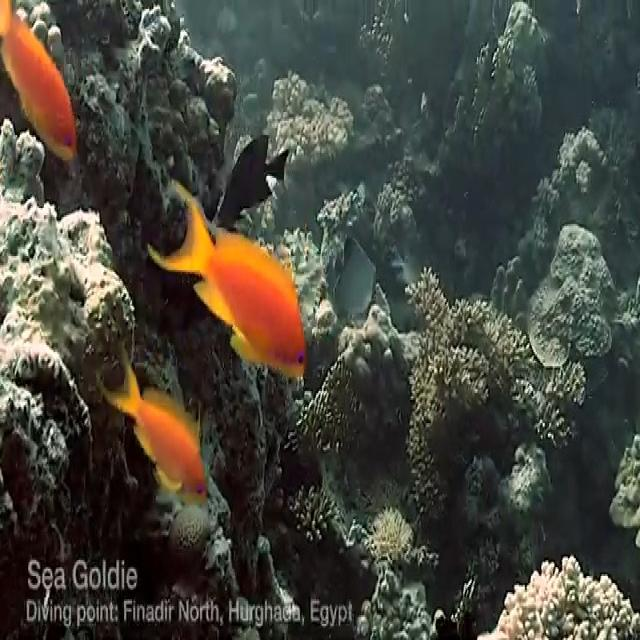Sea Goldie: (145, 174, 305, 380), (95, 362, 207, 508), (0, 0, 76, 162)
